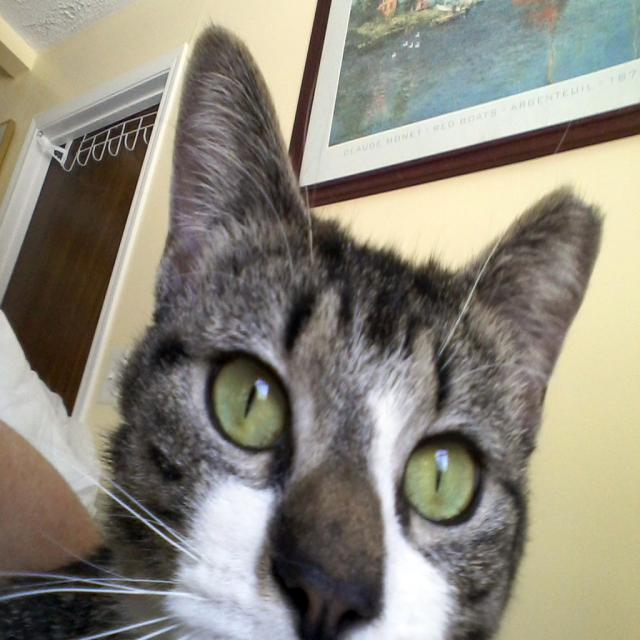Cat: (2, 15, 603, 638)
